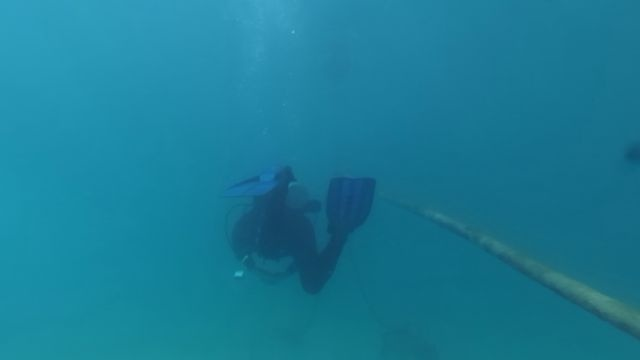Diver: (215, 178, 398, 298)
